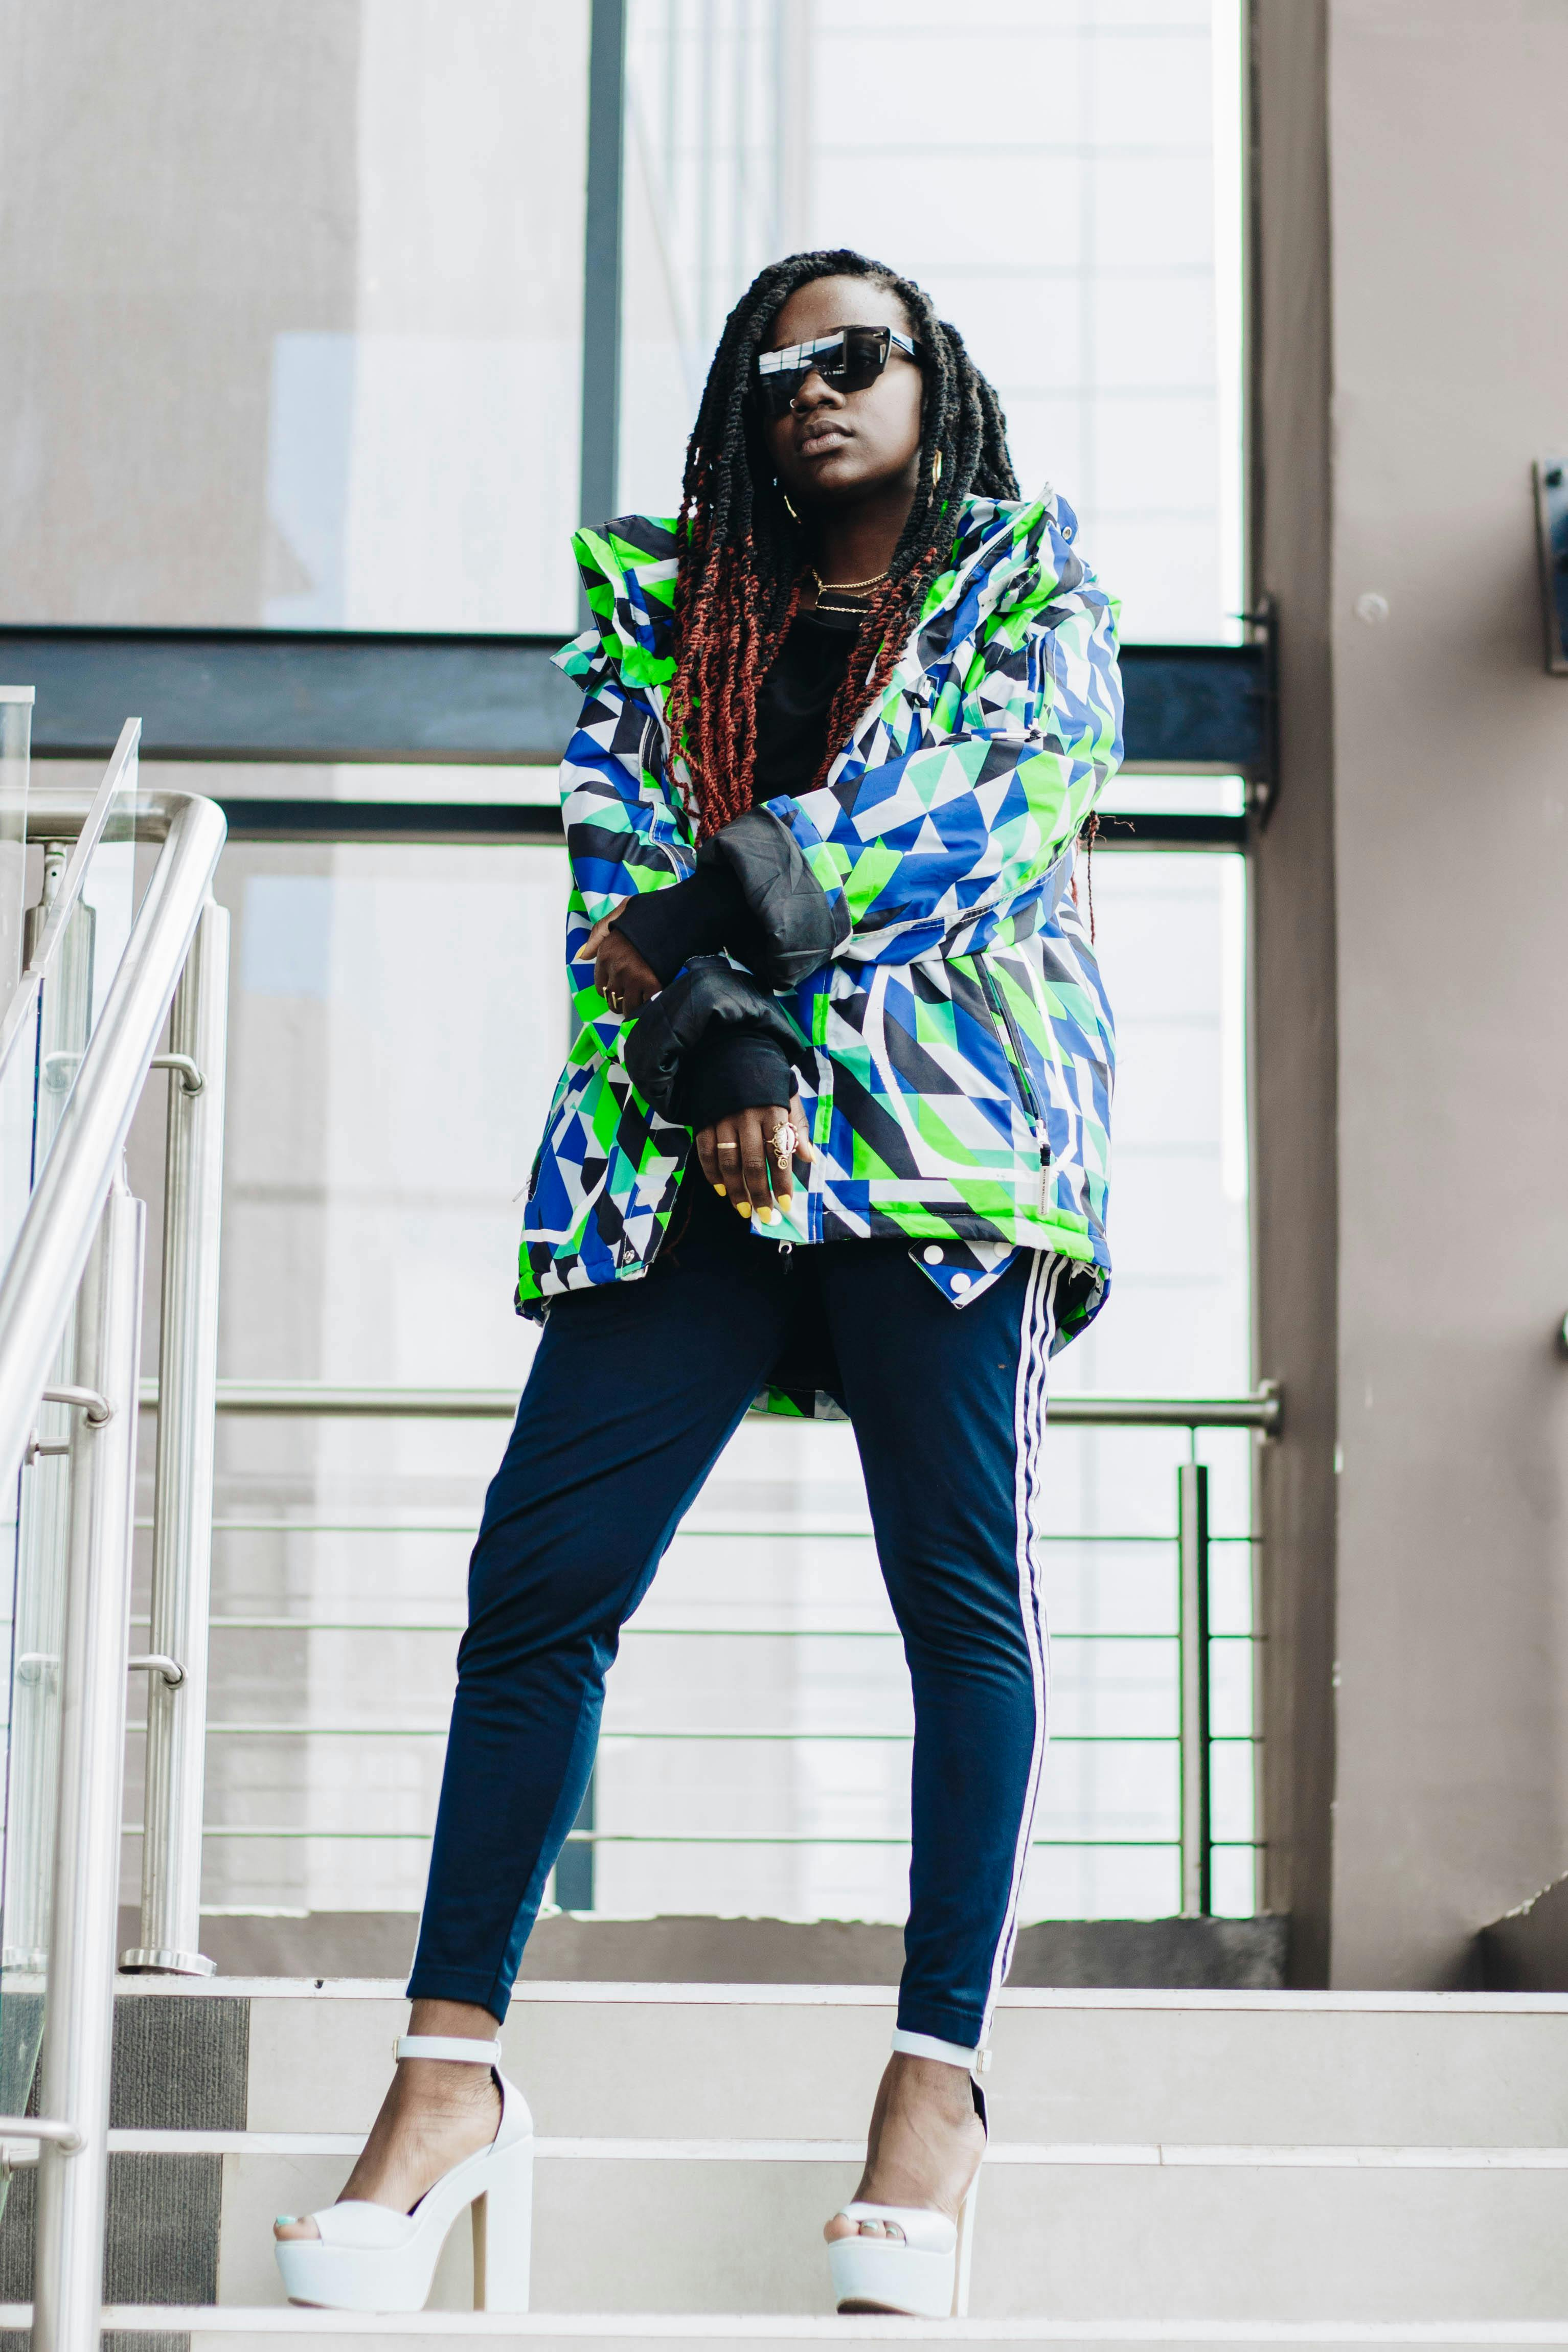Footwear: (756, 2002, 1122, 2352), (220, 2002, 581, 2326)
